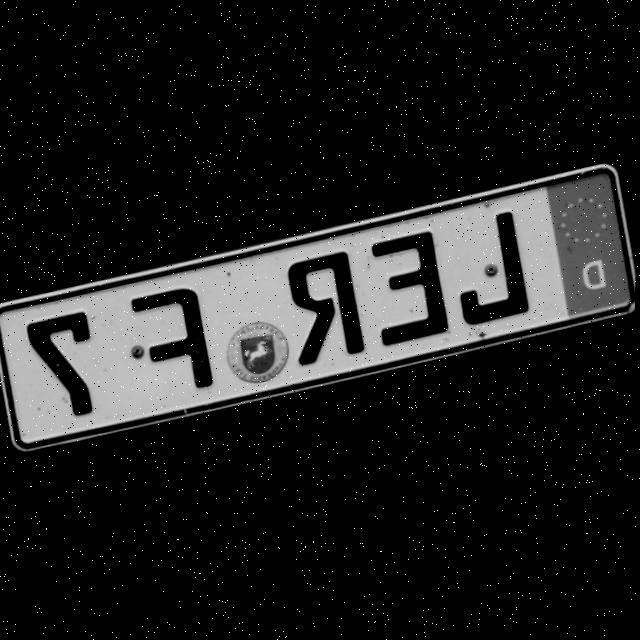license-plates: (0, 164, 636, 453)
